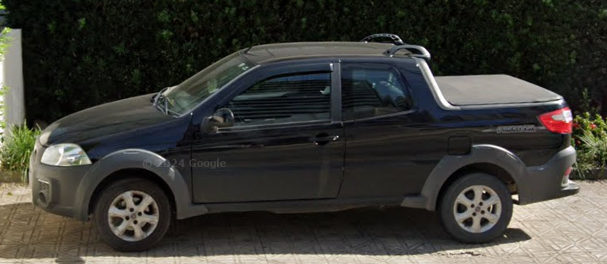car: (29, 35, 578, 253)
